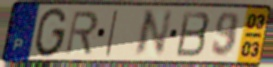9: (210, 10, 240, 59)
B: (174, 10, 212, 59)
G: (32, 6, 69, 59)
I: (103, 8, 121, 59)
N: (131, 8, 175, 59)
R: (63, 9, 100, 57)
